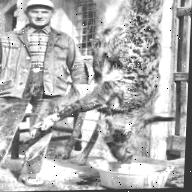boar: (81, 0, 191, 174)
